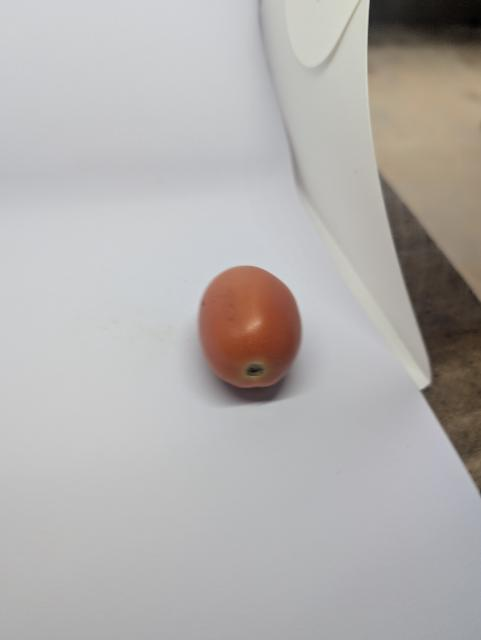red: (195, 261, 307, 400)
